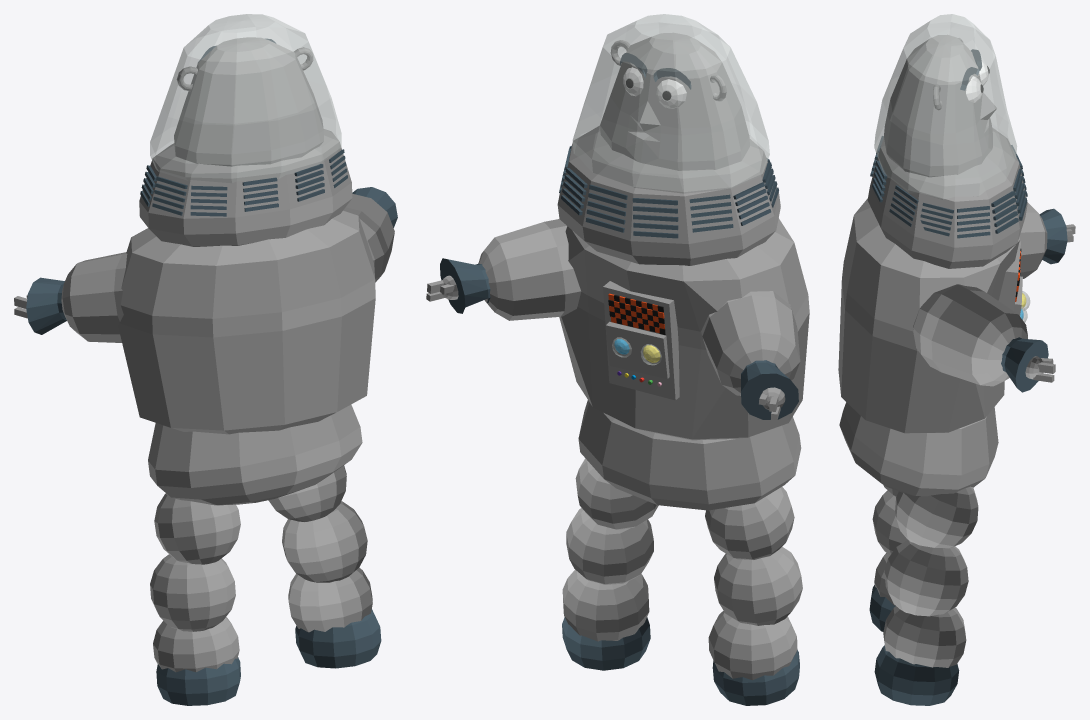
The model's file is scene_bvf7AOvUyY.glb.
3 renders of one model, left to right at view 1: azimuth 30°, elevation 25°; view 2: azimuth 150°, elevation 25°; view 3: azimuth 270°, elevation 25°, orthographic. The views are drawn at different scales.
Visible parts, largest first — view 1: Node; view 2: Node; view 3: Node.
Boxes of the visible parts, x1=… form: Node: x1=14, y1=14, x2=397, y2=705; Node: x1=426, y1=14, x2=809, y2=705; Node: x1=838, y1=14, x2=1075, y2=705.
Size of the model in its own units: 2 by 3.44 by 1.17.
